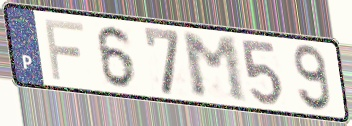5: (238, 38, 287, 108)
6: (95, 24, 138, 90)
7: (141, 25, 183, 97)
9: (291, 42, 334, 115)
F: (42, 17, 87, 83)
M: (179, 32, 250, 105)
